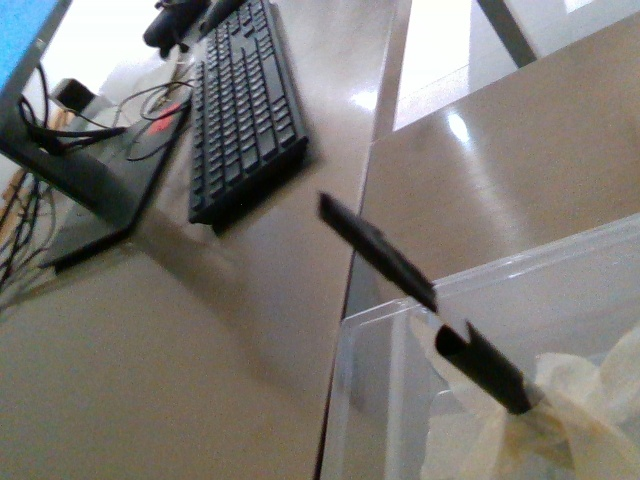test_strip: (313, 187, 471, 347)
